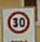limite 30: (5, 9, 30, 33)
